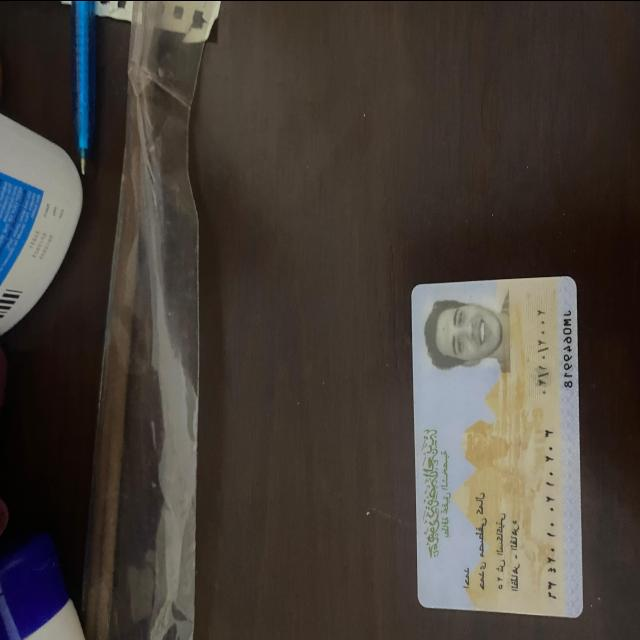id_card: (407, 269, 596, 624)
